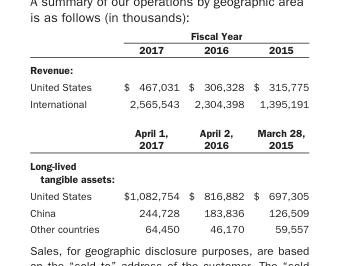table: (29, 28, 308, 234)
table column: (29, 28, 110, 234), (110, 28, 183, 234), (183, 28, 247, 234), (247, 28, 308, 234)
table column header: (29, 28, 308, 59)
table projected row header: (29, 155, 308, 186), (29, 59, 308, 78)
table row: (29, 117, 308, 155), (29, 155, 308, 186), (29, 95, 308, 117), (29, 59, 308, 78), (29, 42, 308, 59), (29, 78, 308, 95), (29, 186, 308, 203), (29, 203, 308, 220), (29, 28, 308, 42), (29, 220, 308, 234)
table spanning cell: (110, 28, 308, 42)
